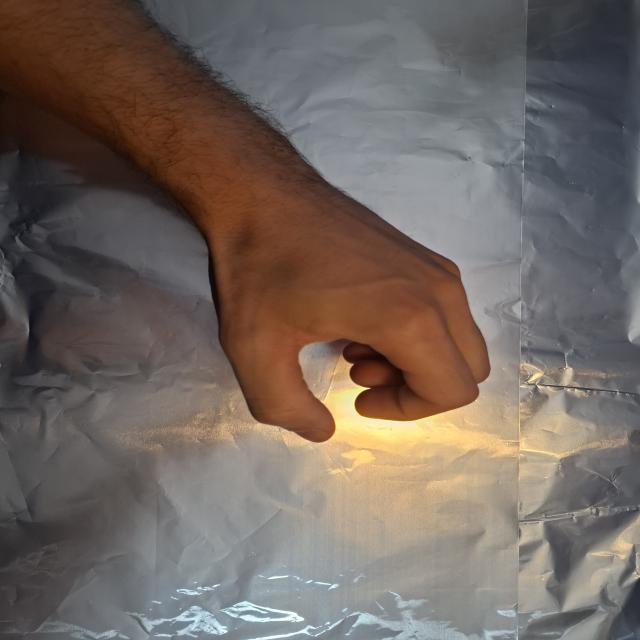glove_off: (202, 181, 494, 445)
